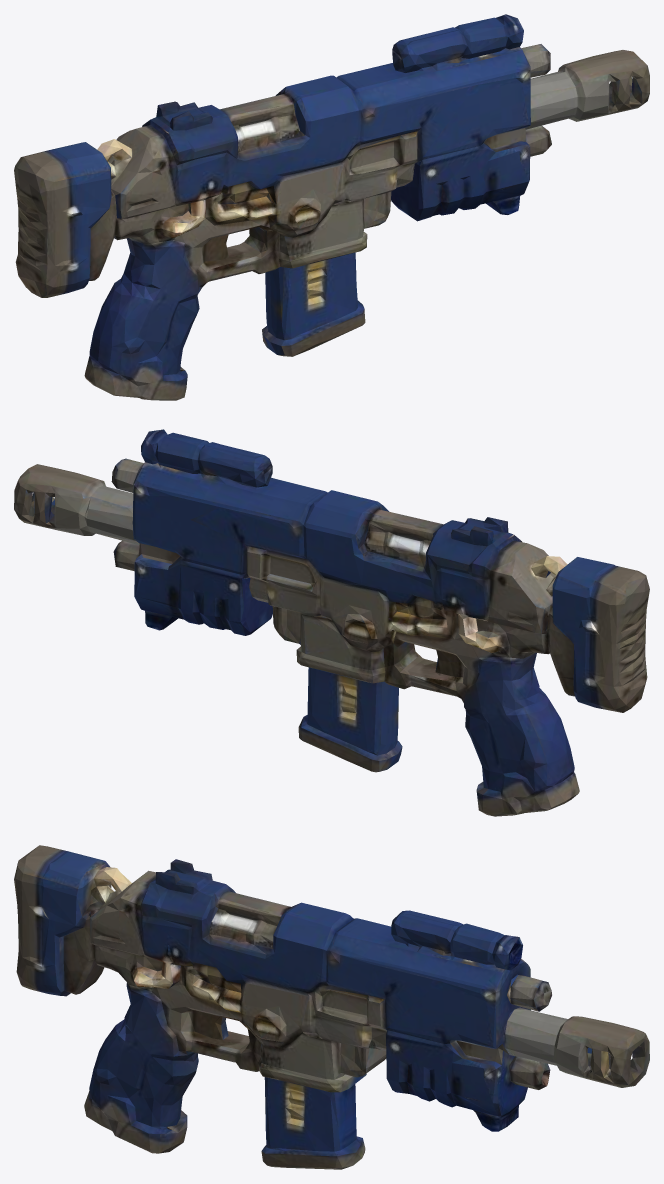
The model's file is w-bolt-rifle.glb.
3 views of the same model, one above another, from view 1: azimuth 30°, elevation 25°; view 2: azimuth 150°, elevation 25°; view 3: azimuth 330°, elevation 25° (orthographic).
Parts seen in each view (by area): view 1: tmpix8jj51_.ply; view 2: tmpix8jj51_.ply; view 3: tmpix8jj51_.ply.
Part boxes in pixels (left/top/right/bottom): tmpix8jj51_.ply: left=14, top=14, right=649, bottom=400; tmpix8jj51_.ply: left=14, top=429, right=649, bottom=816; tmpix8jj51_.ply: left=14, top=845, right=649, bottom=1169.
Size of the model in its own units: 0.9 by 0.409 by 0.1074.
Materials: 1 (1 with a texture image).
